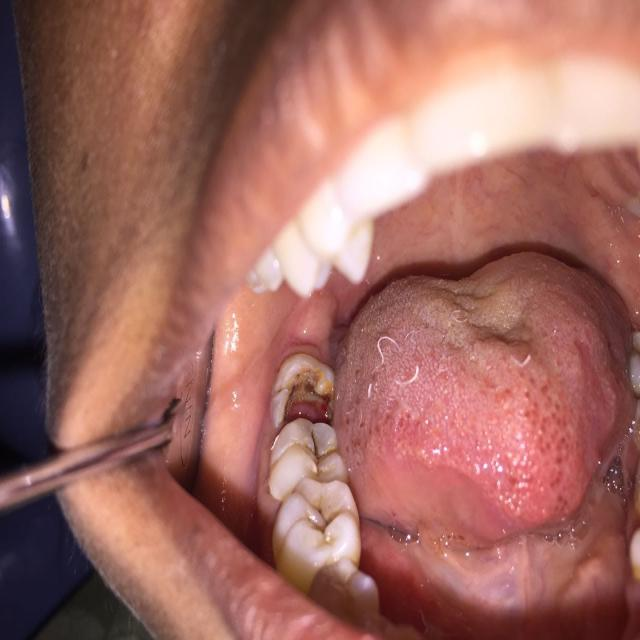discolored_patch: (332, 249, 634, 545)
